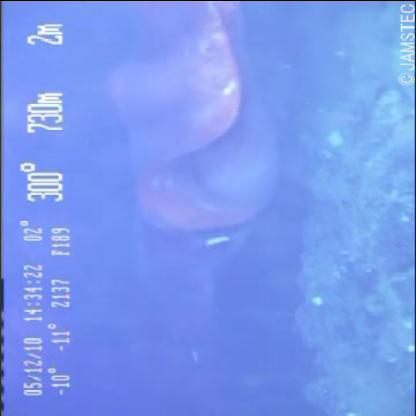Bio: (100, 0, 290, 368)
